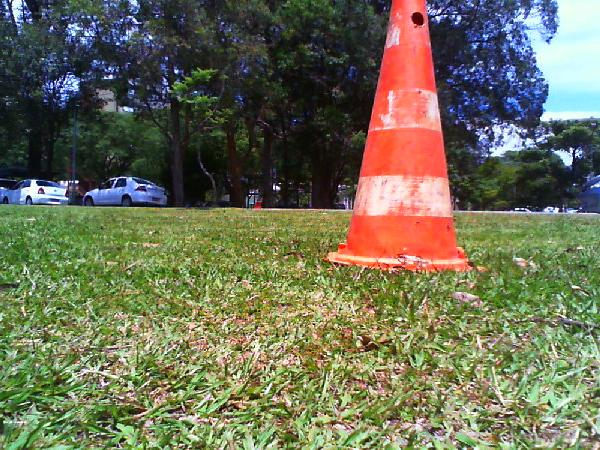0 cone: (322, 0, 474, 271)
